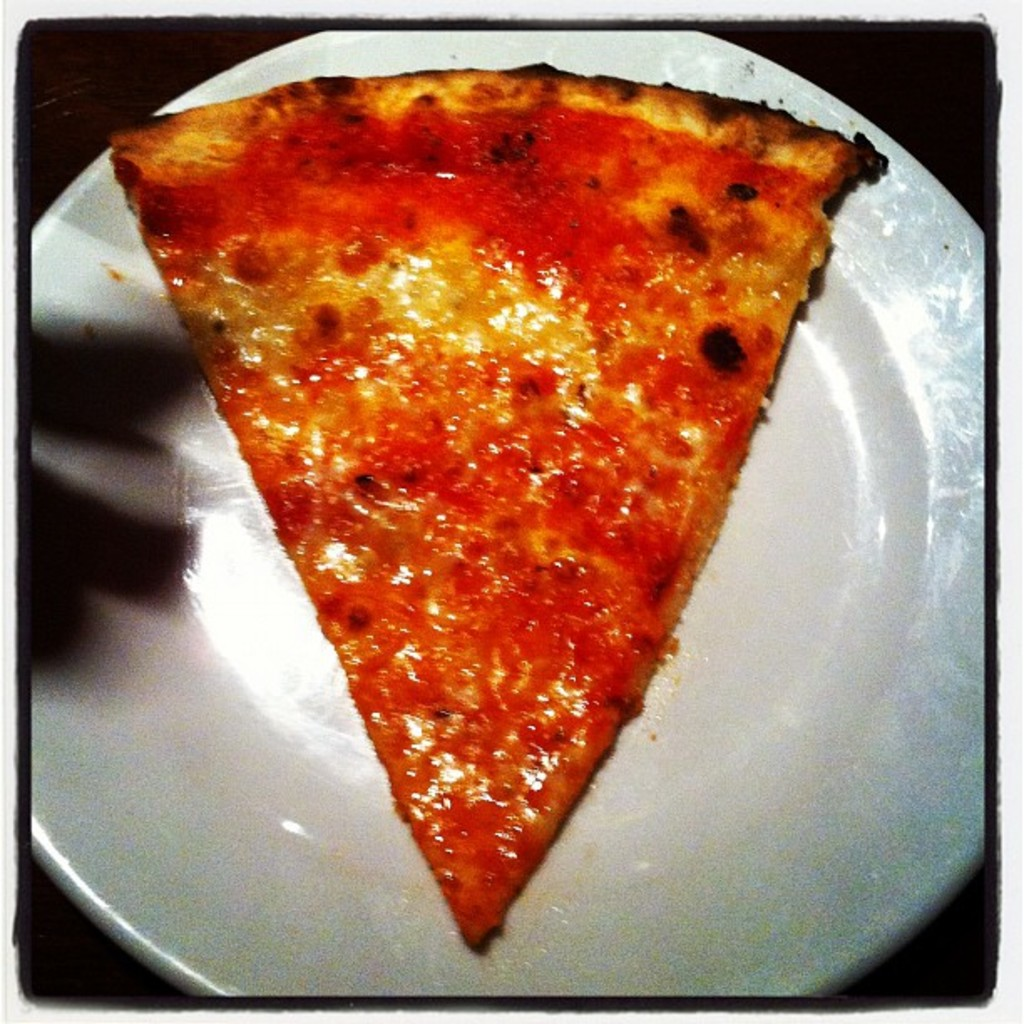pizza: (97, 69, 865, 934)
